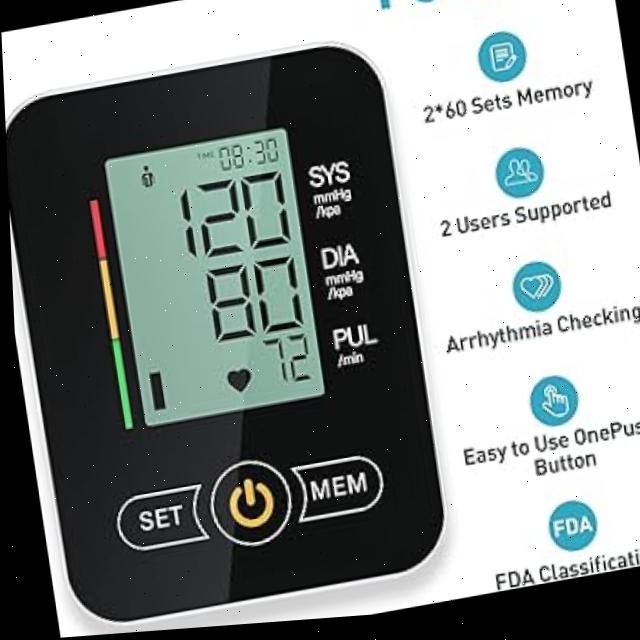dia: (187, 250, 313, 353)
pul: (249, 328, 320, 400)
ssd: (102, 132, 326, 429)
sys: (157, 161, 301, 270)
